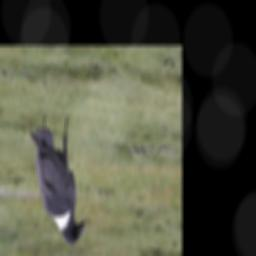Crow: (29, 116, 85, 246)
